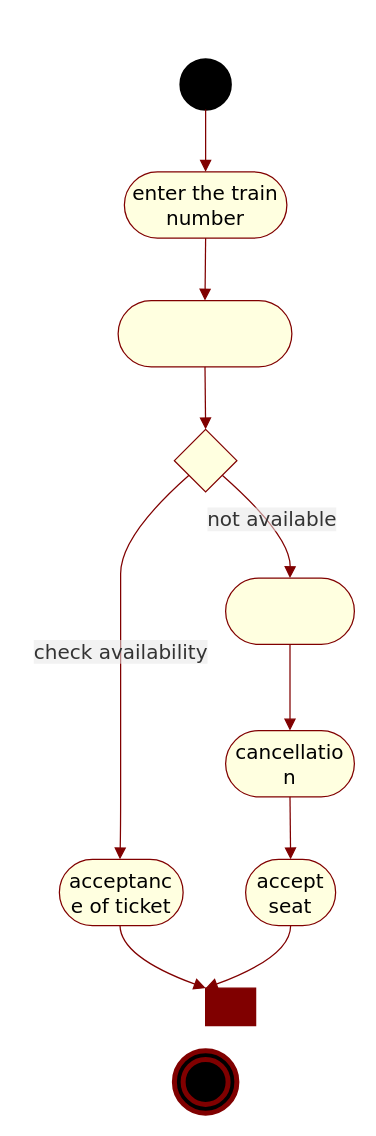
This 376x1136 diagram has some shape labels left out. Each missing label, with the centre of its shape:
"check for waiting list" goes at pixel 289 610.
"enter the number of seats" goes at pixel 204 333.
